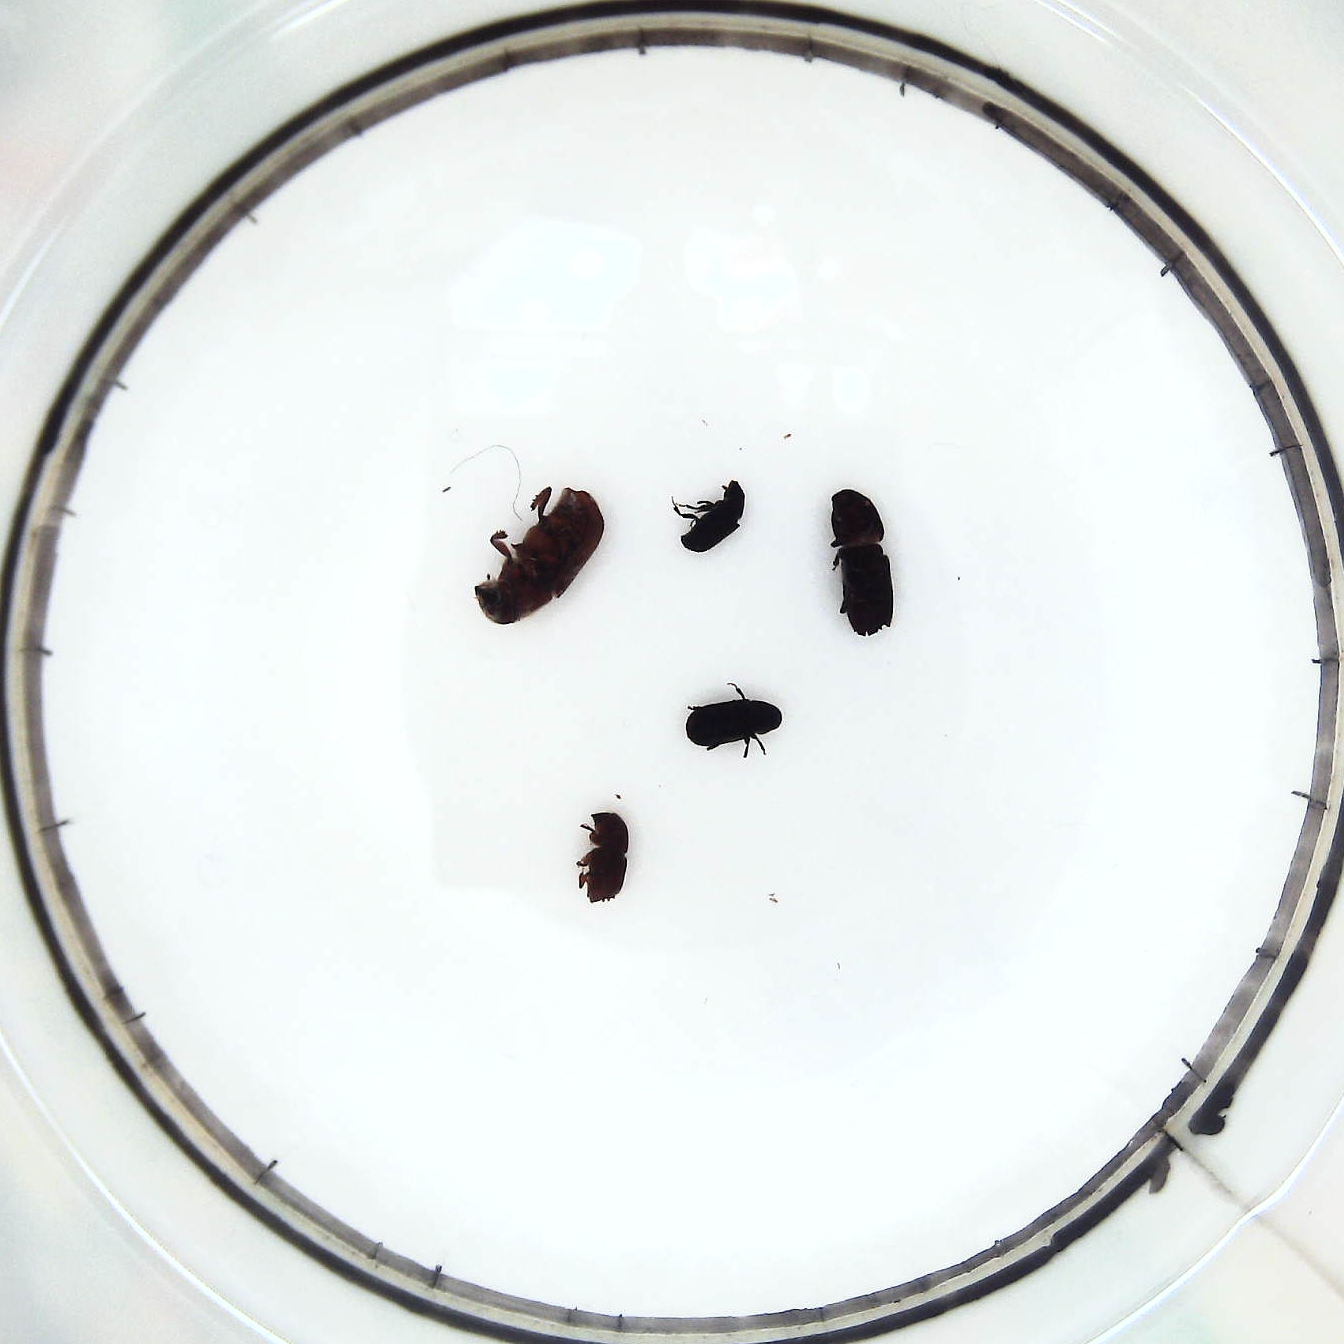Boerner: (827, 482, 900, 642)
Leconte: (466, 475, 610, 628)
armandi: (683, 679, 783, 761)
coleoptera: (668, 475, 751, 560)
linnaeus: (571, 804, 634, 910)
